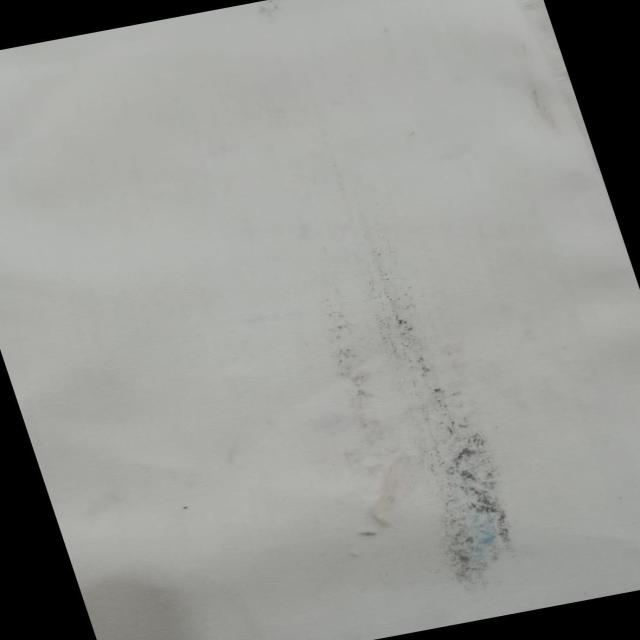stain: (274, 248, 542, 603)
